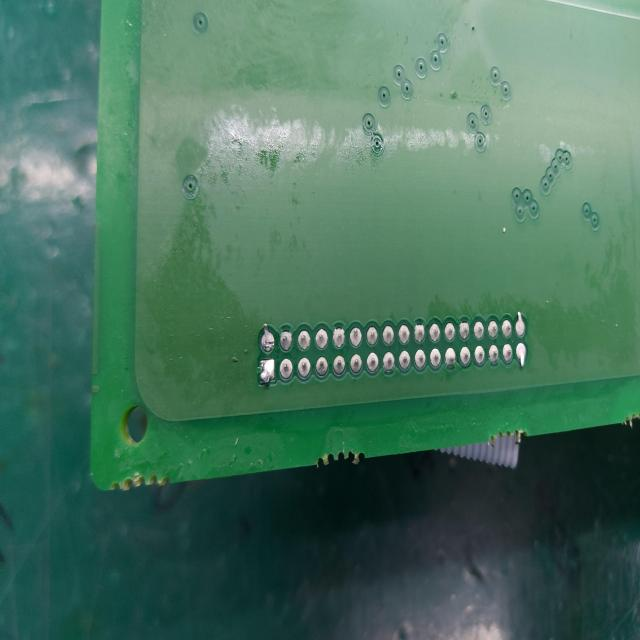slug: (256, 358, 277, 388), (257, 324, 276, 356), (513, 342, 532, 371), (512, 311, 528, 339)
